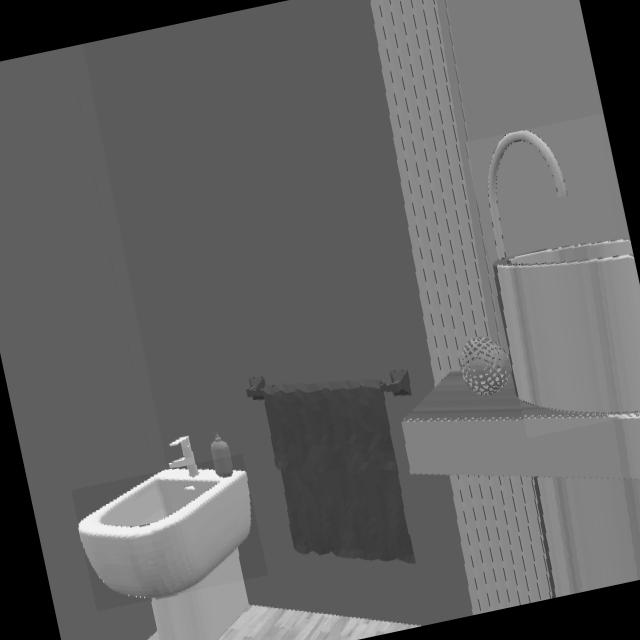washbasin: (490, 131, 640, 414), (78, 468, 251, 600)
